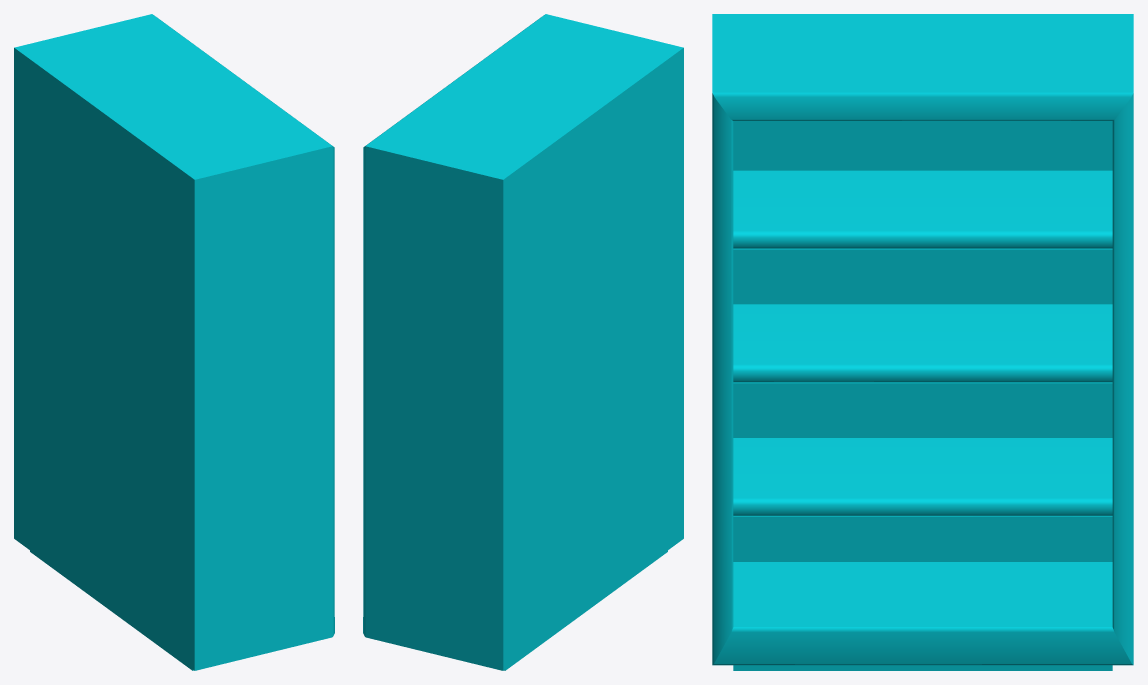
File: BookShelve.fbx
The picture shows the model from 3 angles, left to right: view 1: azimuth 30°, elevation 25°; view 2: azimuth 150°, elevation 25°; view 3: azimuth 270°, elevation 25°; orthographic projection. The views are drawn at different scales.
Parts seen in each view (by area): view 1: polySurface125; view 2: polySurface125; view 3: polySurface125.
Boxes of the visible parts, <box> form: polySurface125: <box>14,14,334,670</box>; polySurface125: <box>363,14,683,670</box>; polySurface125: <box>712,14,1133,670</box>.
Size of the model in its own units: 90 by 305 by 200.
